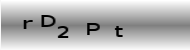2: (56, 25, 69, 39)
D: (40, 13, 56, 28)
P: (86, 22, 101, 37)
r: (22, 18, 33, 30)
t: (113, 25, 125, 38)
